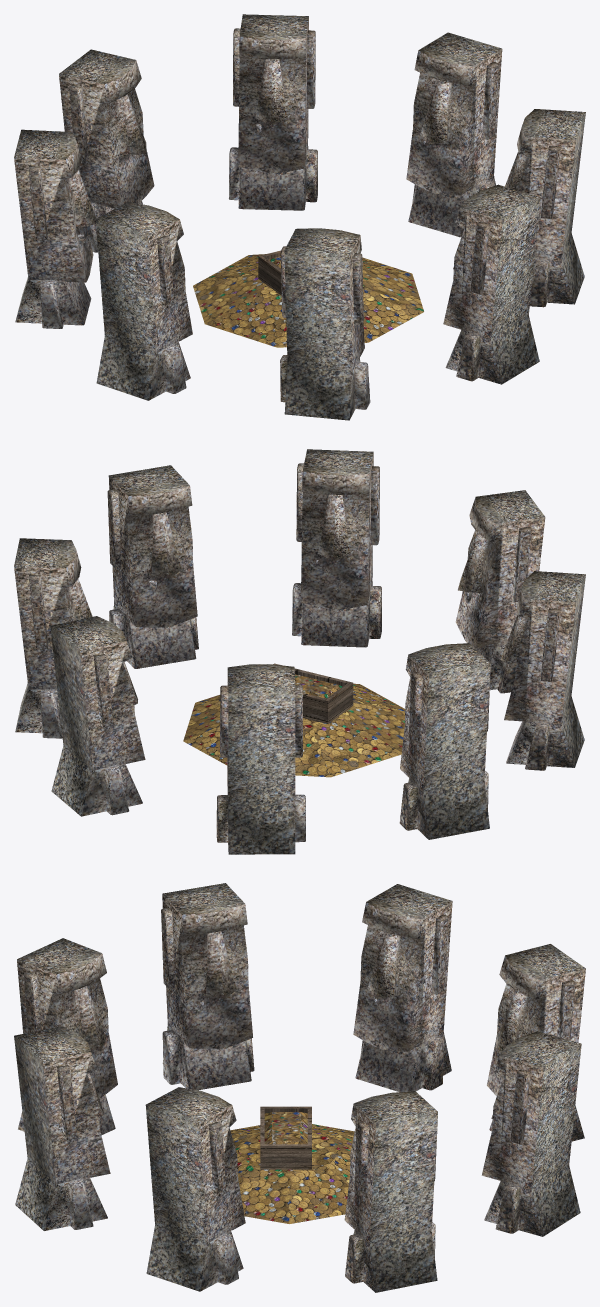
Rendered from moai-gold.glb.
3 views of the same model, one above another, from view 1: azimuth 30°, elevation 25°; view 2: azimuth 150°, elevation 25°; view 3: azimuth 270°, elevation 25° (orthographic). The views are drawn at different scales.
Parts seen in each view (by area): view 1: 円柱; view 2: 円柱; view 3: 円柱.
Boxes of the visible parts, left/top/right/bottom form: 円柱: left=14, top=14, right=585, bottom=420; 円柱: left=14, top=449, right=585, bottom=854; 円柱: left=14, top=883, right=585, bottom=1292.
Bounding box in the file's own units: 11.01 × 3.61 × 11.05.
Materials: 4 (4 with a texture image).
